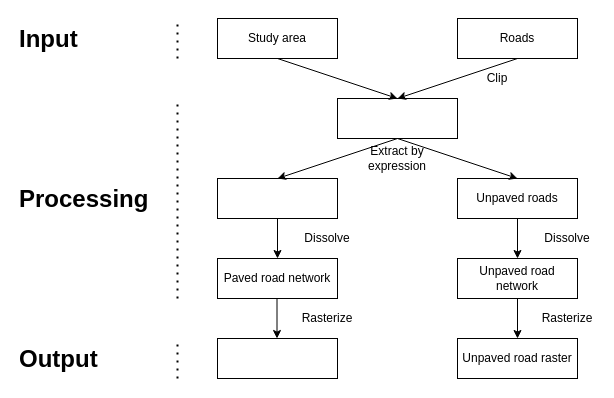
The diagram is 614 pixels wide and 398 high, and some of its shapes have lost their labels. Here are the shapes that lost their labels. From the top down, the centre of each, then its label:
point 397,118: Roads in study area
point 277,198: Paved roads
point 277,358: Paved road raster
